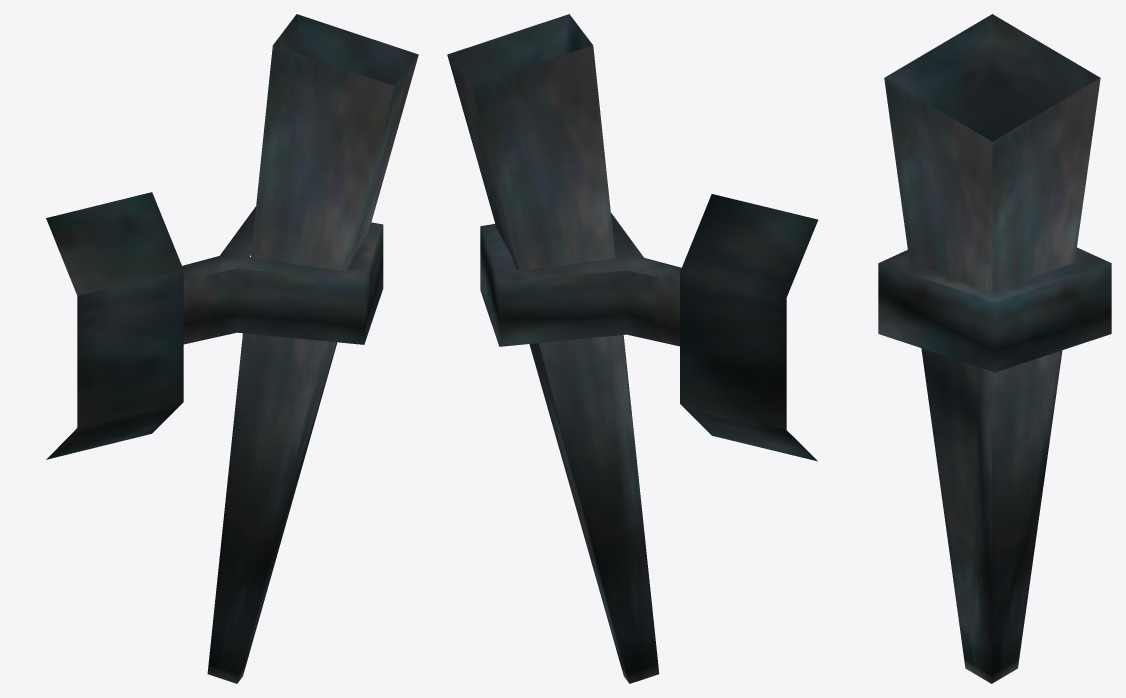
File: jinsi_flame_l.glb
3 views of the same model, side by side, from view 1: azimuth 30°, elevation 25°; view 2: azimuth 150°, elevation 25°; view 3: azimuth 270°, elevation 25° (orthographic). The views are drawn at different scales.
Parts seen in each view (by area): view 1: jinsi_flame_L; view 2: jinsi_flame_L; view 3: jinsi_flame_L.
Part boxes in pixels (x1=…): jinsi_flame_L: x1=46, y1=14, x2=418, y2=683; jinsi_flame_L: x1=447, y1=14, x2=817, y2=683; jinsi_flame_L: x1=878, y1=14, x2=1111, y2=683.
Size of the model in its own units: 3.28 by 5.26 by 1.62.
1 material, 1 textured.
